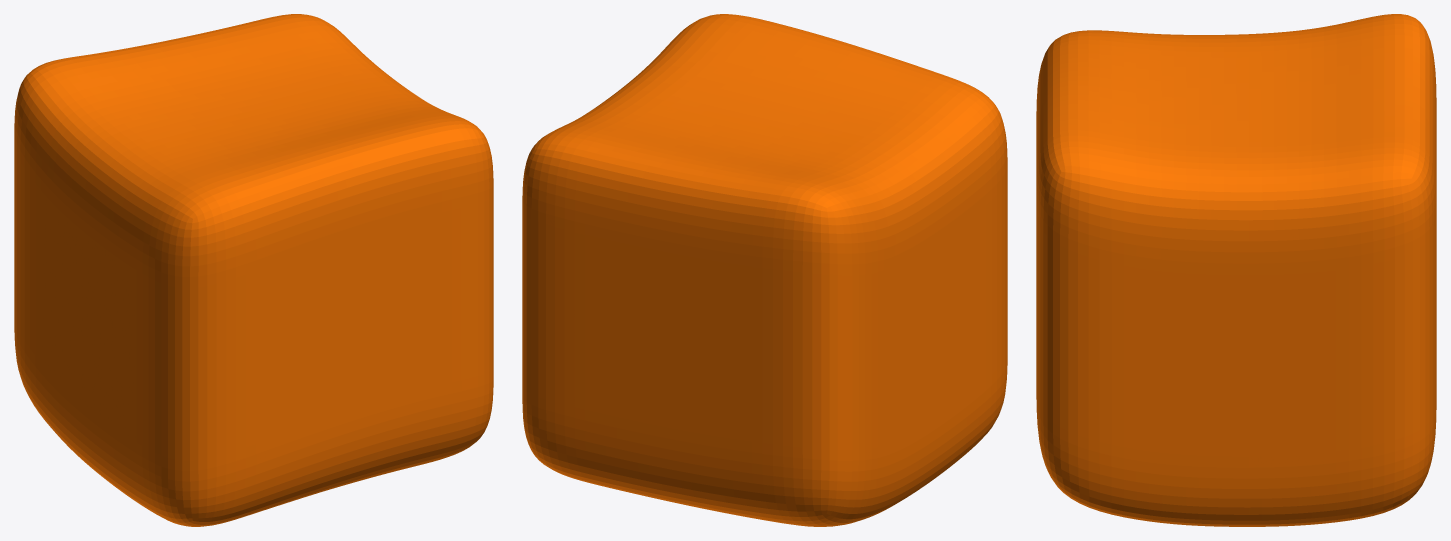
3 views of the same model, side by side, from view 1: azimuth 30°, elevation 25°; view 2: azimuth 150°, elevation 25°; view 3: azimuth 270°, elevation 25° (orthographic). The views are drawn at different scales.
Visible parts, largest first — view 1: smooth_1_base.031; view 2: smooth_1_base.031; view 3: smooth_1_base.031.
Part boxes in pixels (<box>): smooth_1_base.031: <box>14,14,493,526</box>; smooth_1_base.031: <box>522,14,1007,526</box>; smooth_1_base.031: <box>1036,14,1436,526</box>.
Bounding box in the file's own units: 60 × 63 × 60.
